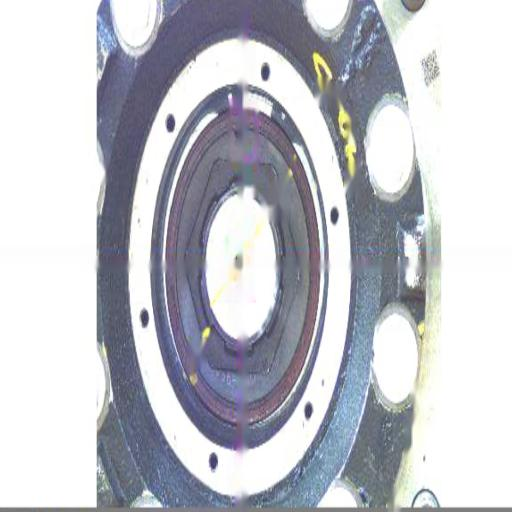center: (233, 249, 246, 276)
notch: (228, 121, 246, 149)
